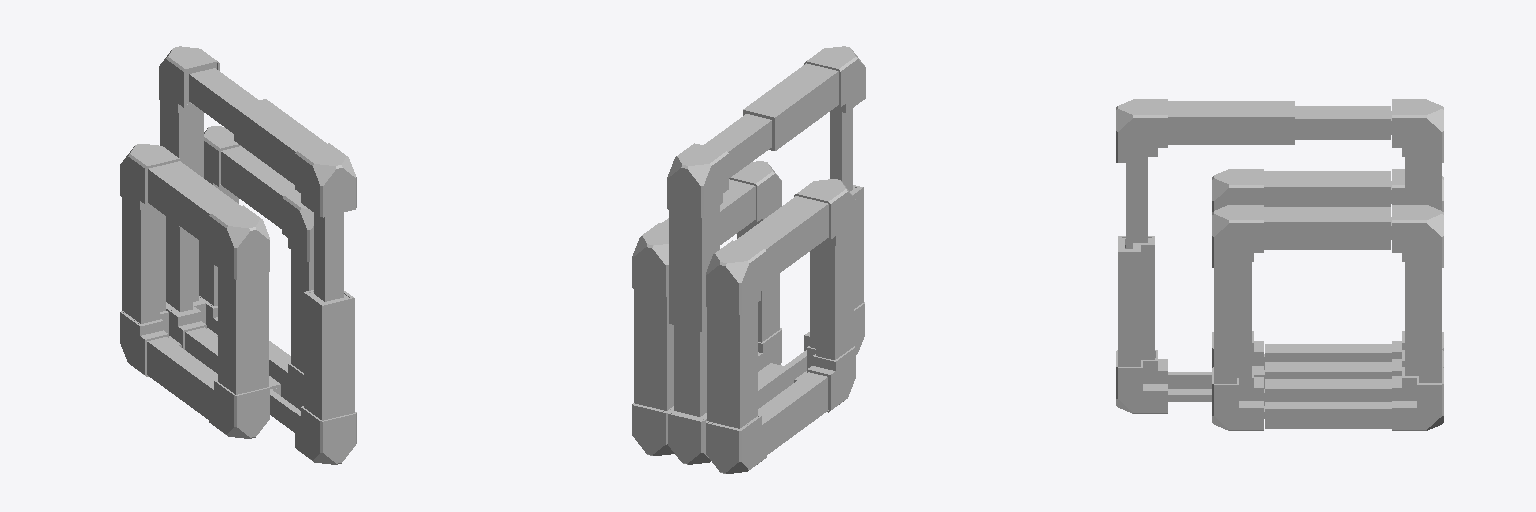
Rendered from frame.obj.
3 views of the same model, side by side, from view 1: azimuth 30°, elevation 25°; view 2: azimuth 150°, elevation 25°; view 3: azimuth 270°, elevation 25° (orthographic).
Visible parts, largest first — view 1: Body2:8, Body2:40, Body2:32, Body2:44, Body2:12, Body2:15, Body2:47, Body2:28, Body2:36, Body2:11, Body2:43, Body2:1 (+15 smaller); view 2: Body2:32, Body2:40, Body2, Body2:16, Body2:12, Body2:44, Body2:3, Body2:35, Body2:36, Body2:1, Body2:39, Body2:19 (+13 smaller); view 3: Body2:20, Body2:12, Body2:28, Body2:44, Body2:8, Body2:24, Body2:16, Body2:13, Body2:3, Body2:15, Body2:19, Body2:31 (+10 smaller).
Part boxes in pixels (x1,y1,x2,y2): Body2:8: (304,290,354,420); Body2:40: (218,268,268,394); Body2:32: (122,198,165,323); Body2:44: (148,161,240,246); Body2:12: (234,99,326,184); Body2:15: (295,143,356,217); Body2:47: (209,205,269,279); Body2:28: (221,146,297,228); Body2:36: (147,337,217,419); Body2:11: (295,406,356,464); Body2:43: (209,380,269,438); Body2:1: (166,218,198,311); Body2:32: (707,303,757,428); Body2:40: (810,233,853,359); Body2: (669,206,719,331); Body2:16: (634,289,673,410); Body2:12: (743,63,838,150); Body2:44: (735,196,828,281); Body2:3: (667,143,728,217); Body2:35: (706,240,766,314); Body2:36: (758,372,827,454); Body2:1: (674,325,706,416); Body2:39: (706,415,766,473); Body2:19: (632,223,668,296); Body2:20: (1265,379,1391,428); Body2:12: (1168,101,1294,144); Body2:28: (1264,207,1390,249); Body2:44: (1264,171,1390,206); Body2:8: (1118,236,1154,366); Body2:24: (1214,262,1251,383); Body2:16: (1405,262,1441,382); Body2:13: (1295,106,1390,139); Body2:3: (1392,99,1443,163); Body2:15: (1116,99,1167,162); Body2:19: (1392,205,1443,268); Body2:31: (1212,205,1263,268).
Size of the model in its own units: 16.92 by 44.17 by 43.98.